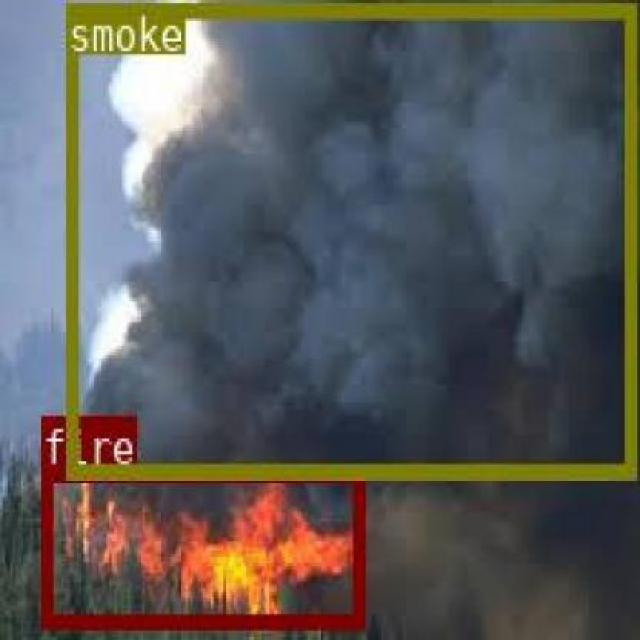CIV_Plane: (40, 464, 362, 628)
Fire: (40, 464, 362, 628)
Smoke: (63, 0, 634, 476)
